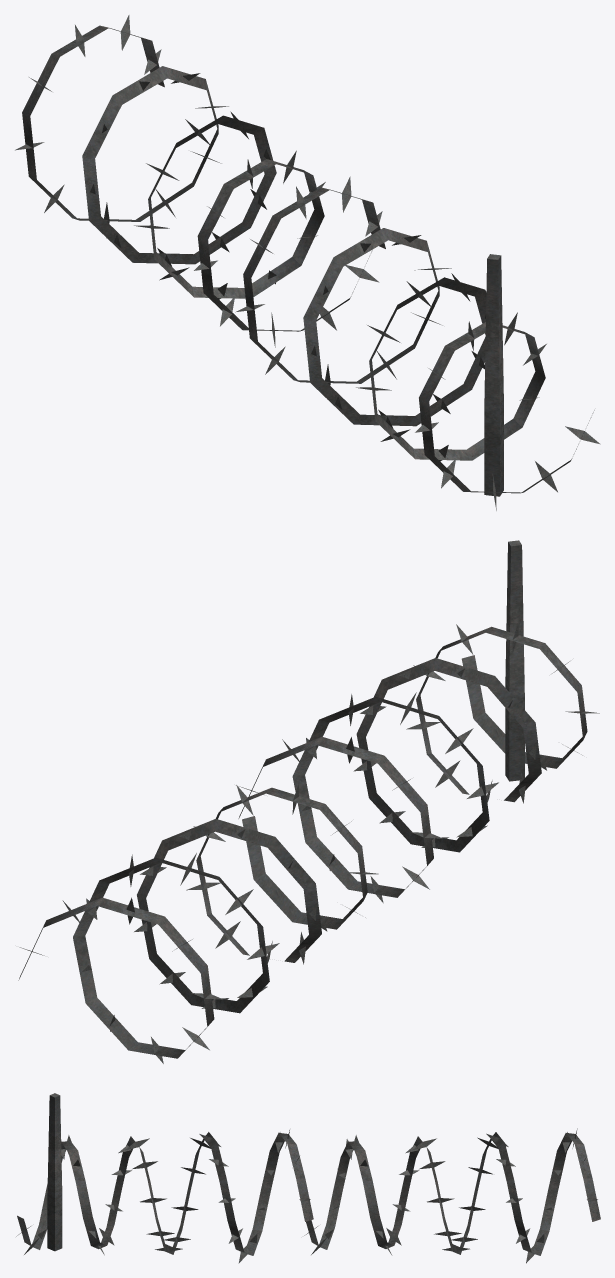
File: barbed_wire.obj
The picture shows the model from 3 angles, top to bottom: view 1: azimuth 30°, elevation 25°; view 2: azimuth 150°, elevation 25°; view 3: azimuth 270°, elevation 25°; orthographic projection. The views are drawn at different scales.
Visible parts, largest first — view 1: barbed_wire; view 2: barbed_wire; view 3: barbed_wire.
Part boxes in pixels (<box>): barbed_wire: <box>15,15,600,510</box>; barbed_wire: <box>18,540,599,1063</box>; barbed_wire: <box>16,1093,600,1263</box>.
Size of the model in its own units: 1.55 by 2.06 by 6.76.
